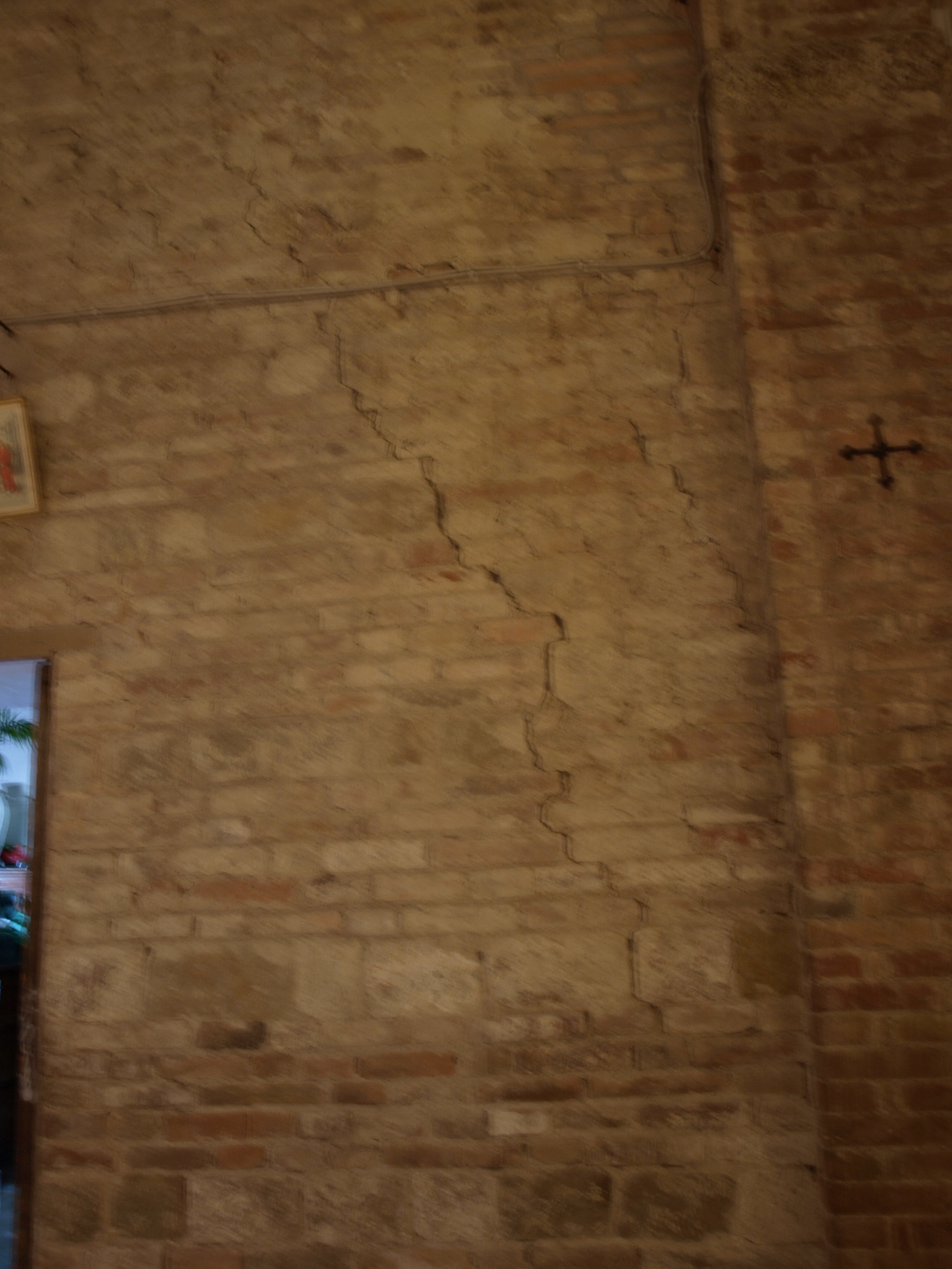Crack: (77, 39, 863, 1091)
